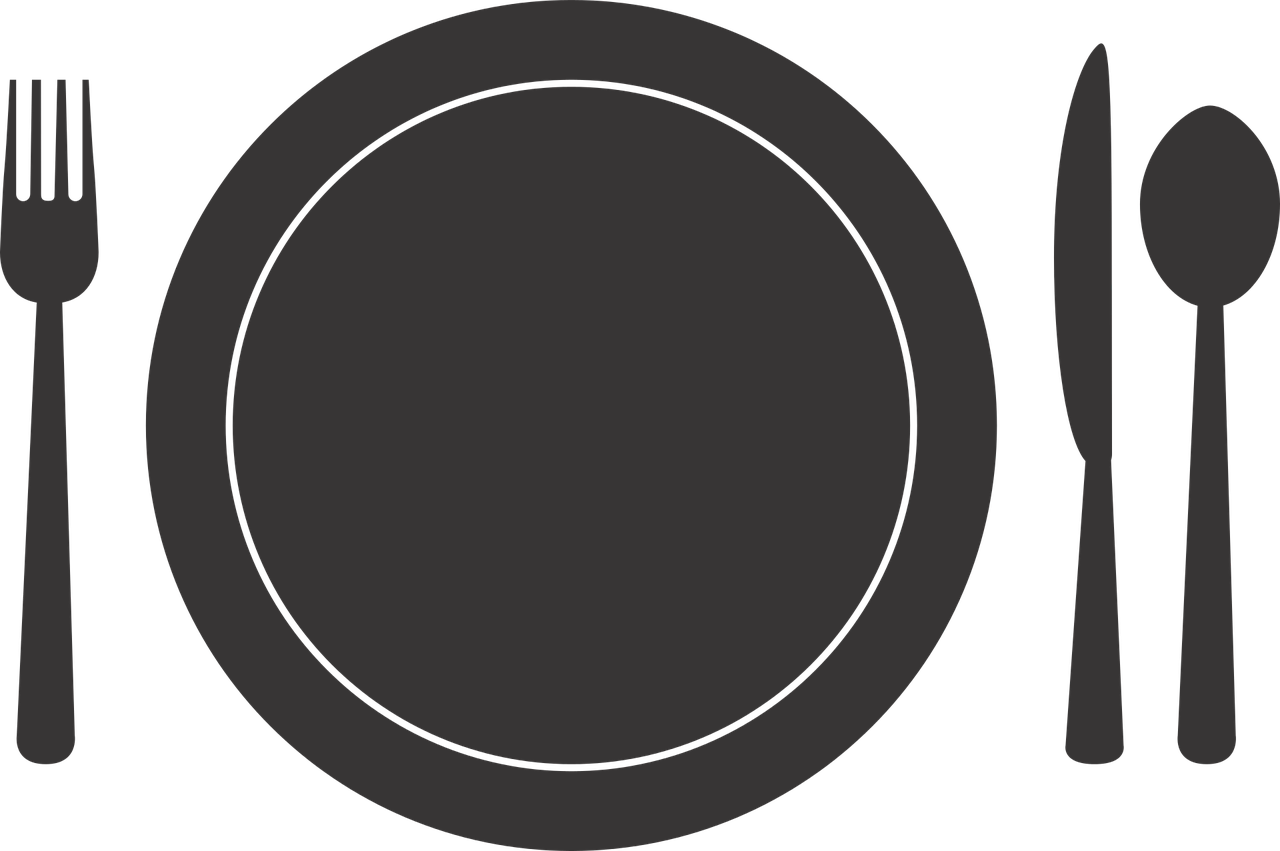knife: (1053, 38, 1135, 764)
